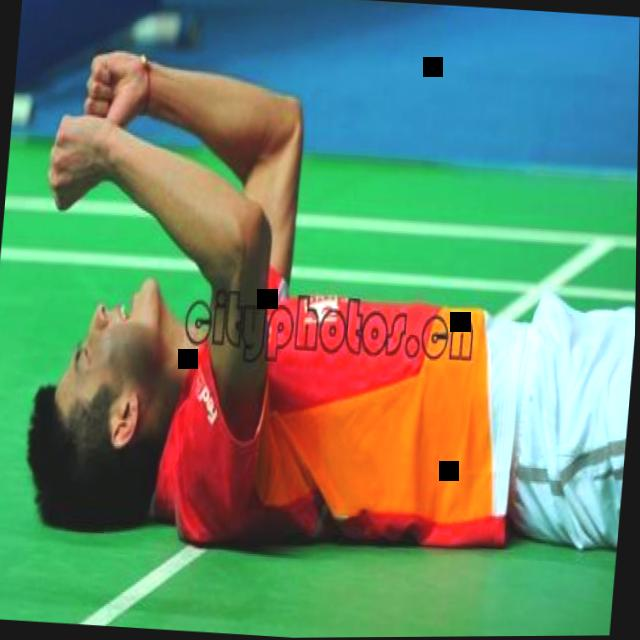Fall-Detected: (26, 19, 640, 593)
